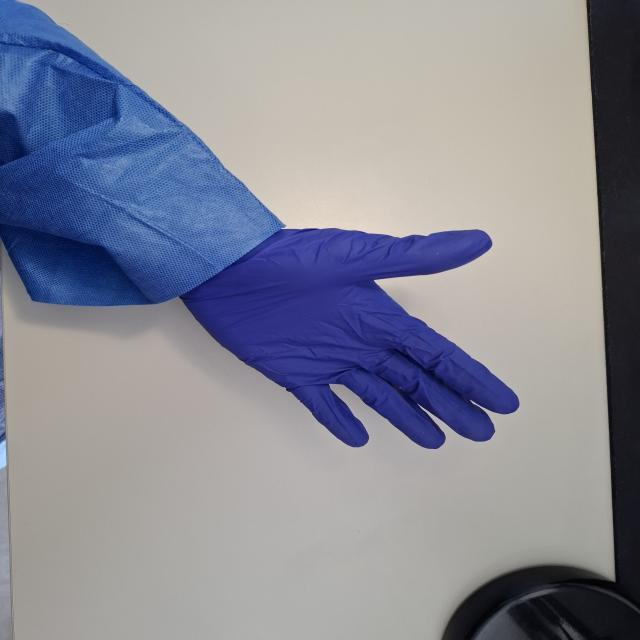glove_on: (177, 222, 526, 452)
